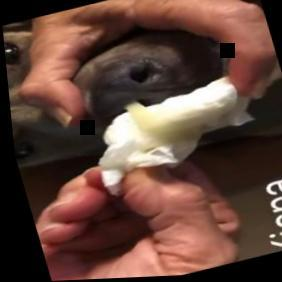nasal_discharge: (110, 81, 210, 159)
